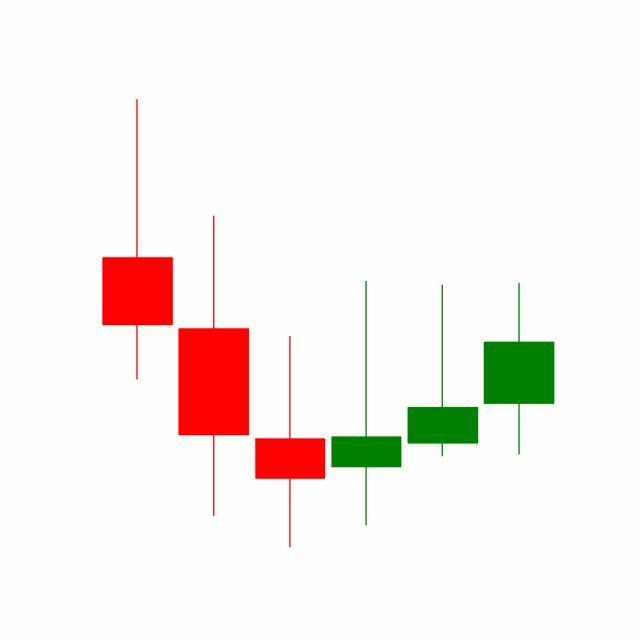Hikkake Pattern: (175, 211, 555, 548)
